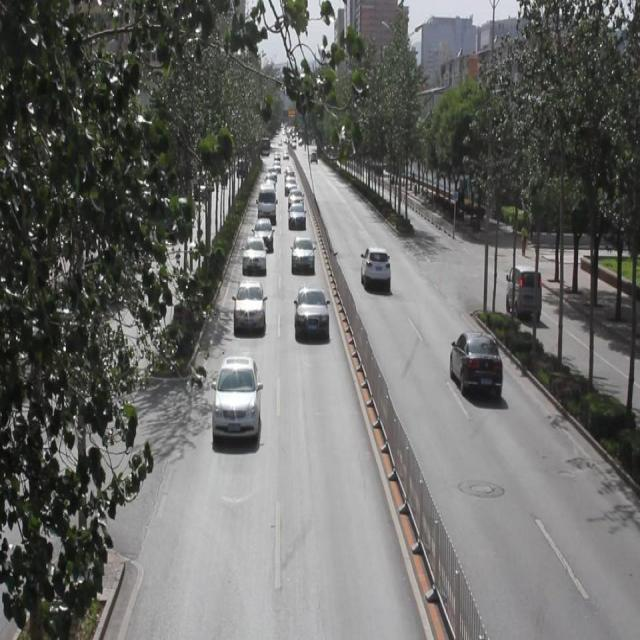car: (212, 354, 260, 437), (450, 328, 501, 397), (293, 285, 327, 343), (234, 279, 264, 330), (360, 243, 388, 290), (243, 234, 266, 274), (290, 237, 314, 274), (253, 217, 272, 250), (287, 202, 305, 226)
truck: (504, 263, 539, 318), (258, 182, 275, 222)
